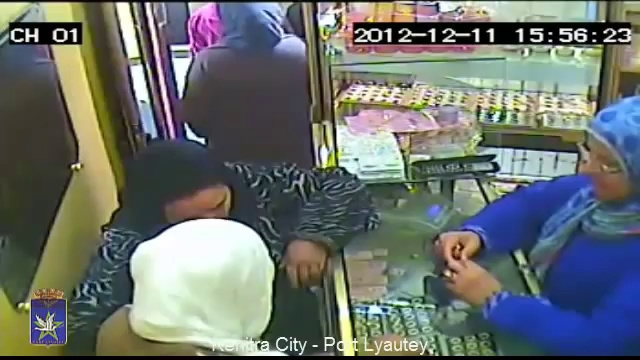face: (581, 132, 636, 197)
